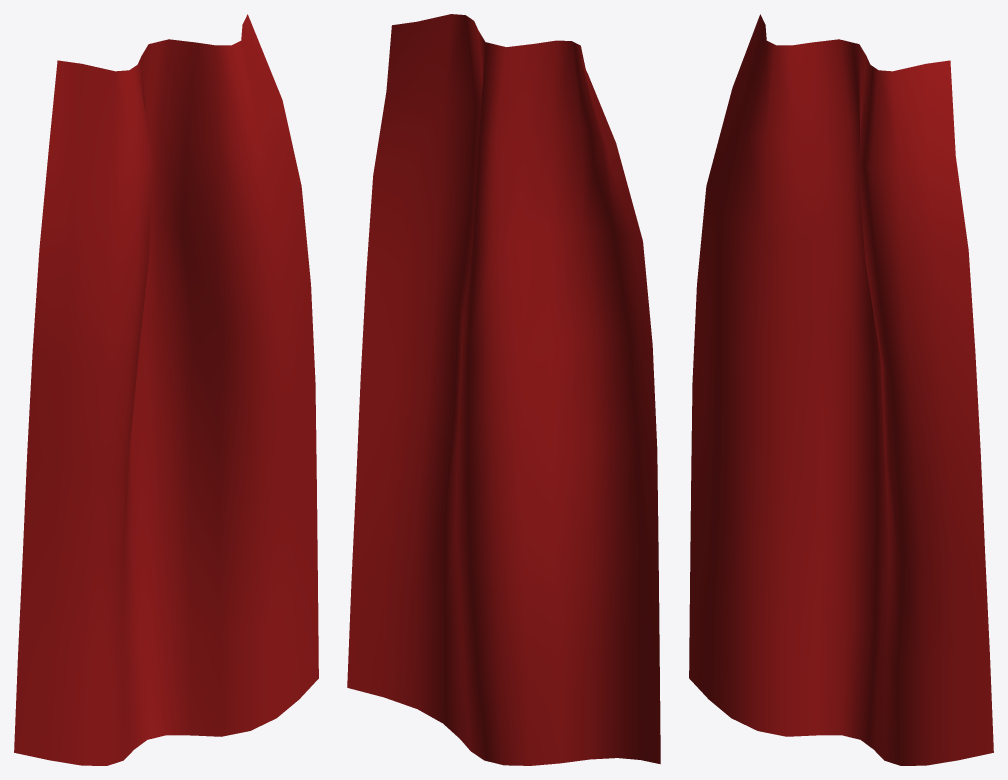
The model's file is curtain.fbx.
3 renders of one model, left to right at view 1: azimuth 30°, elevation 25°; view 2: azimuth 150°, elevation 25°; view 3: azimuth 330°, elevation 25°, orthographic. The views are drawn at different scales.
Visible parts, largest first — view 1: curtain; view 2: curtain; view 3: curtain.
Part boxes in pixels (box(x1,y1,x2,y2)): curtain: box(14, 14, 318, 765); curtain: box(347, 14, 660, 765); curtain: box(689, 14, 993, 765).
Bounding box in the file's own units: 134 × 293 × 34.5.
